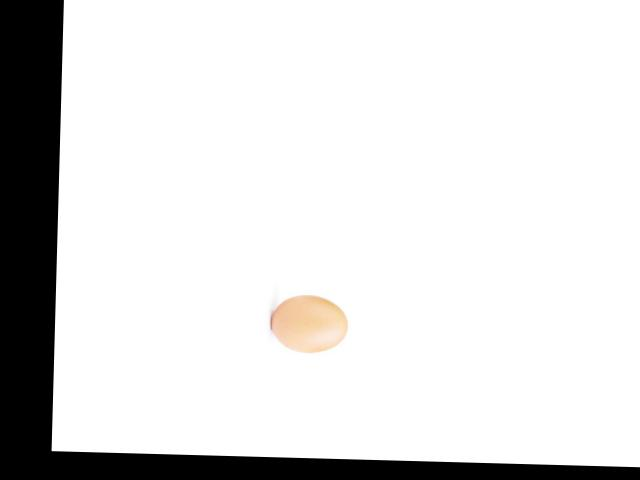egg: (271, 293, 347, 353)
